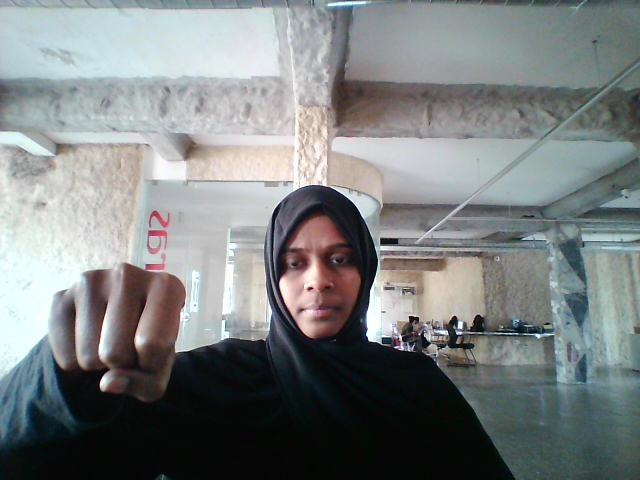YES: (35, 256, 199, 408)
